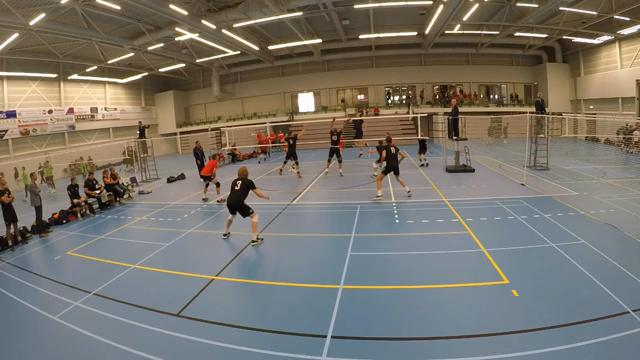attacco: (348, 110, 368, 159)
muro: (275, 121, 309, 181), (322, 113, 351, 177)
